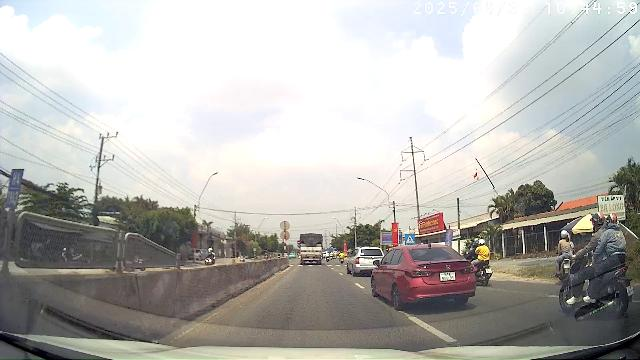423a-duong-nguoi-di-bo-sang-ngang-1: (405, 234, 415, 244)
